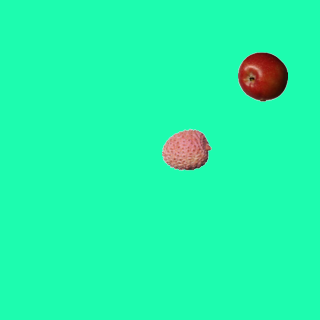Apple Braeburn: (237, 51, 287, 101)
Lychee: (161, 124, 211, 174)
